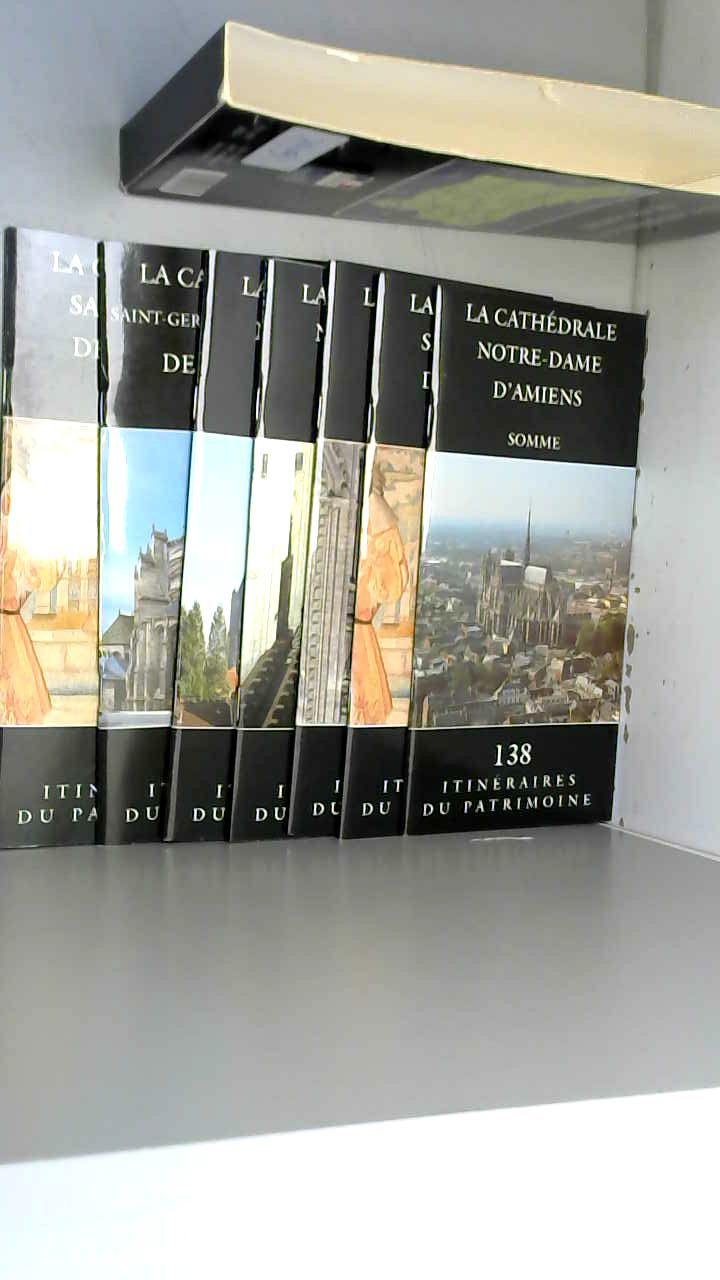book: (0, 8, 720, 919)
